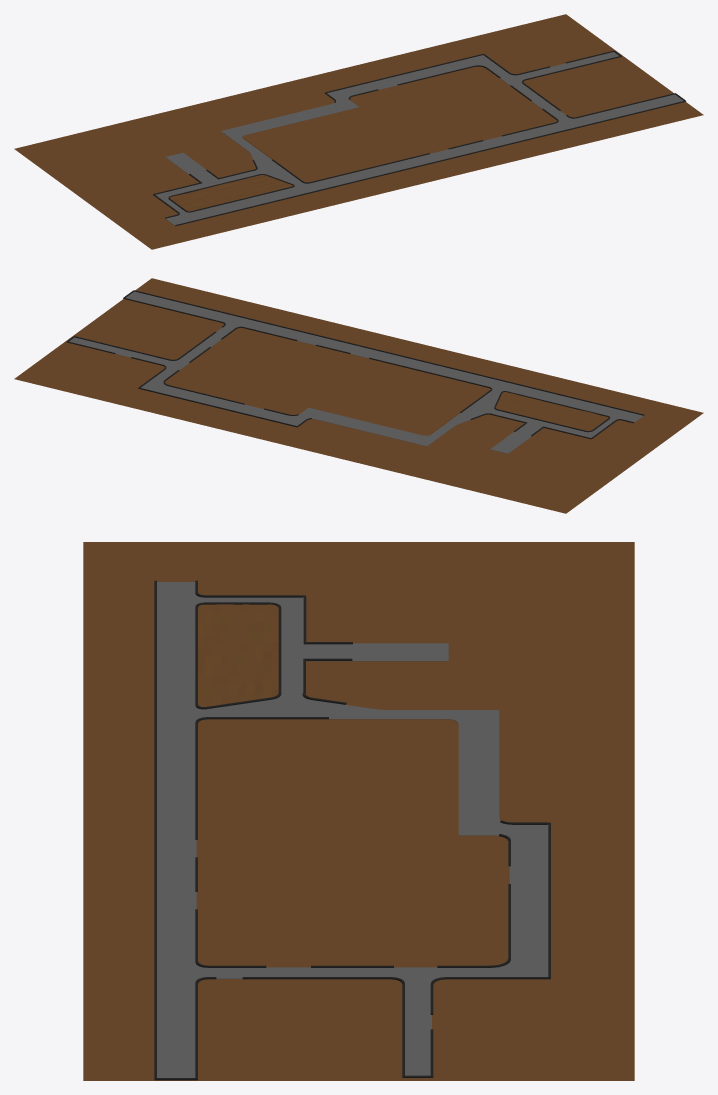
Rendered from jalanLowPoly.glb.
3 views of the same model, one above another, from view 1: azimuth 30°, elevation 25°; view 2: azimuth 150°, elevation 25°; view 3: azimuth 270°, elevation 25° (orthographic). The views are drawn at different scales.
Parts seen in each view (by area): view 1: Plane.007, Plane.006, Plane, Plane.001, Plane.004, Plane.002, Plane.003; view 2: Plane.007, Plane.006, Plane, Plane.001, Plane.004, Plane.002, Plane.003; view 3: Plane.007, Plane.006, Plane, Plane.004, Plane.001, Plane.002, Plane.003.
Part boxes in pixels (box(x1,y1,x2,y2)): Plane.007: box(14, 14, 703, 249); Plane.006: box(242, 66, 556, 182); Plane: box(155, 52, 683, 225); Plane.001: box(153, 50, 686, 225); Plane.004: box(170, 175, 292, 211); Plane.002: box(272, 65, 558, 183); Plane.003: box(168, 174, 294, 212); Plane.007: box(14, 278, 703, 513); Plane.006: box(165, 328, 490, 435); Plane: box(69, 291, 643, 453); Plane.001: box(66, 290, 644, 439); Plane.004: box(495, 392, 608, 430); Plane.002: box(163, 326, 492, 415); Plane.003: box(494, 391, 610, 432); Plane.007: box(83, 542, 634, 1080); Plane.006: box(197, 720, 509, 967); Plane: box(157, 582, 548, 1077); Plane.004: box(198, 604, 278, 706); Plane.001: box(154, 580, 550, 1080); Plane.002: box(195, 717, 510, 967); Plane.003: box(195, 602, 281, 709).
Bounding box in the file's own units: 239 × 0.8422 × 104.
